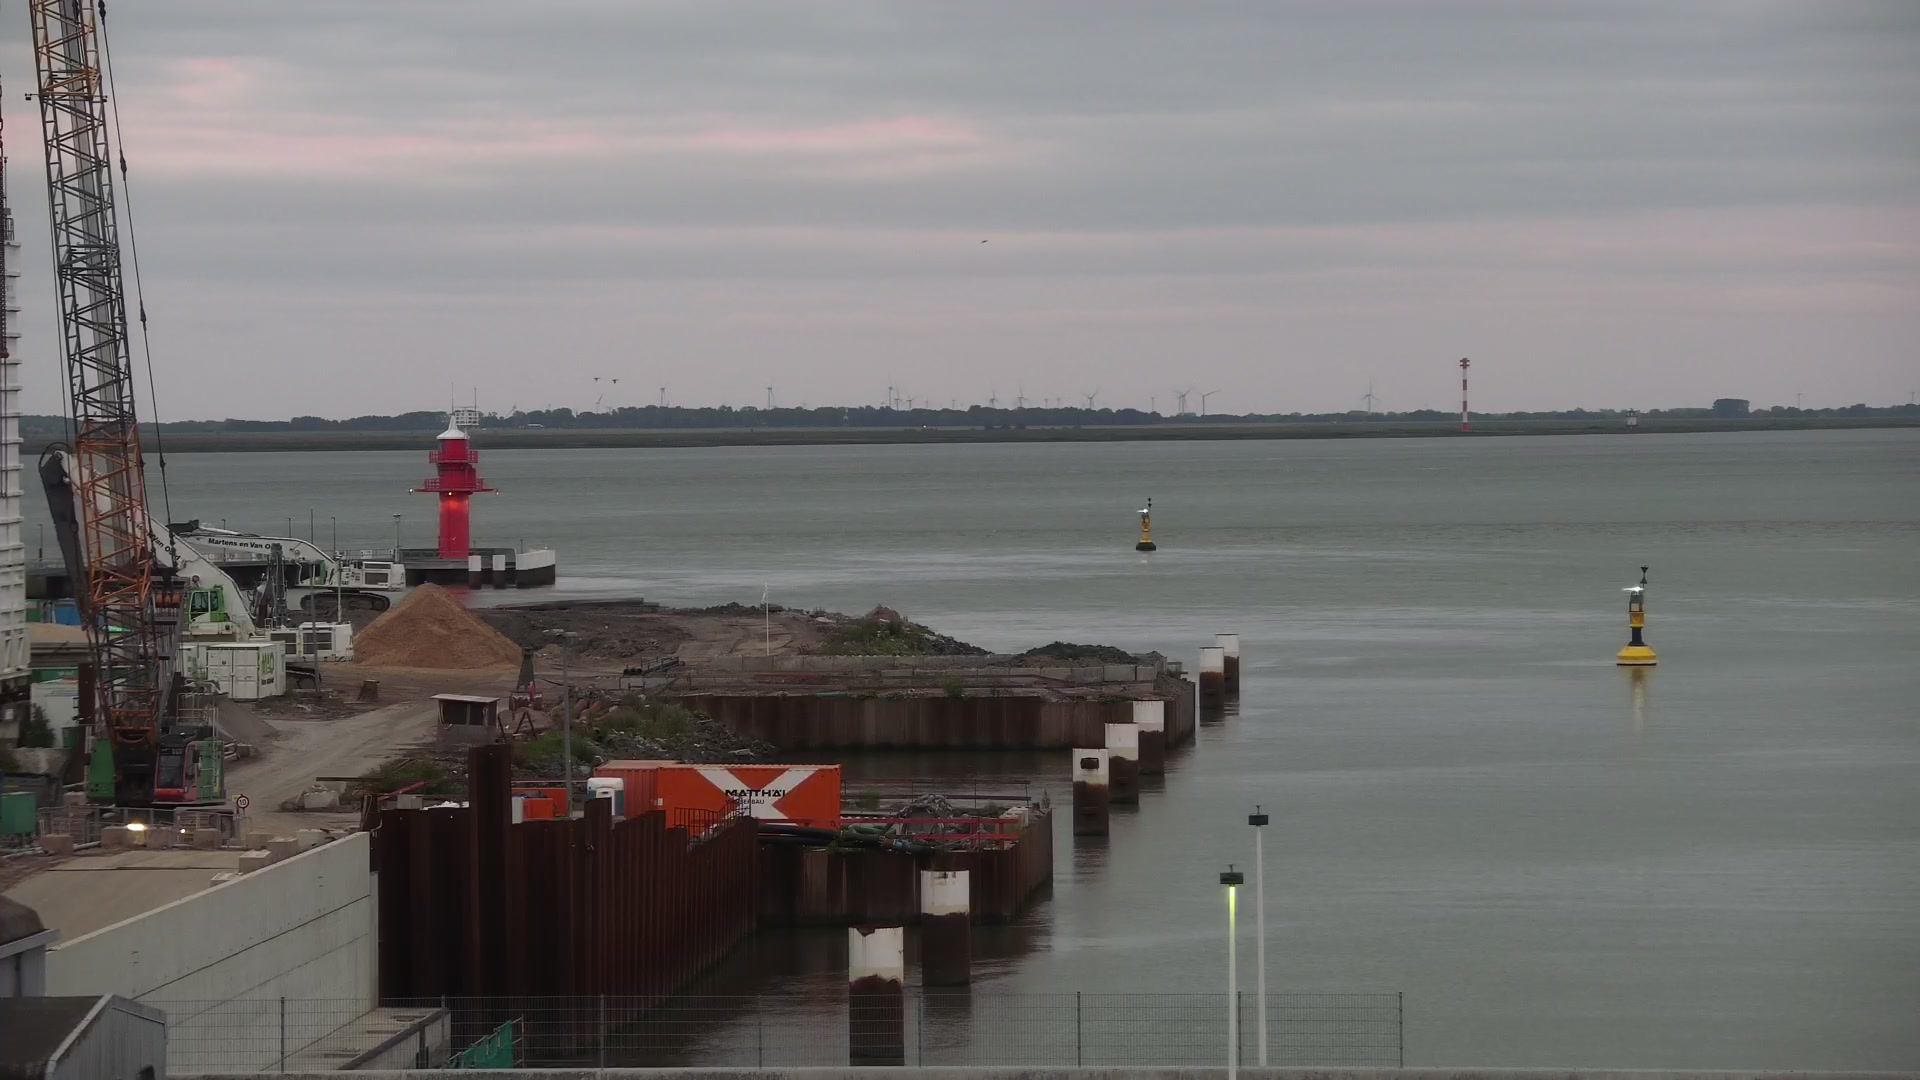land: (36, 440, 353, 694), (156, 517, 406, 612)
